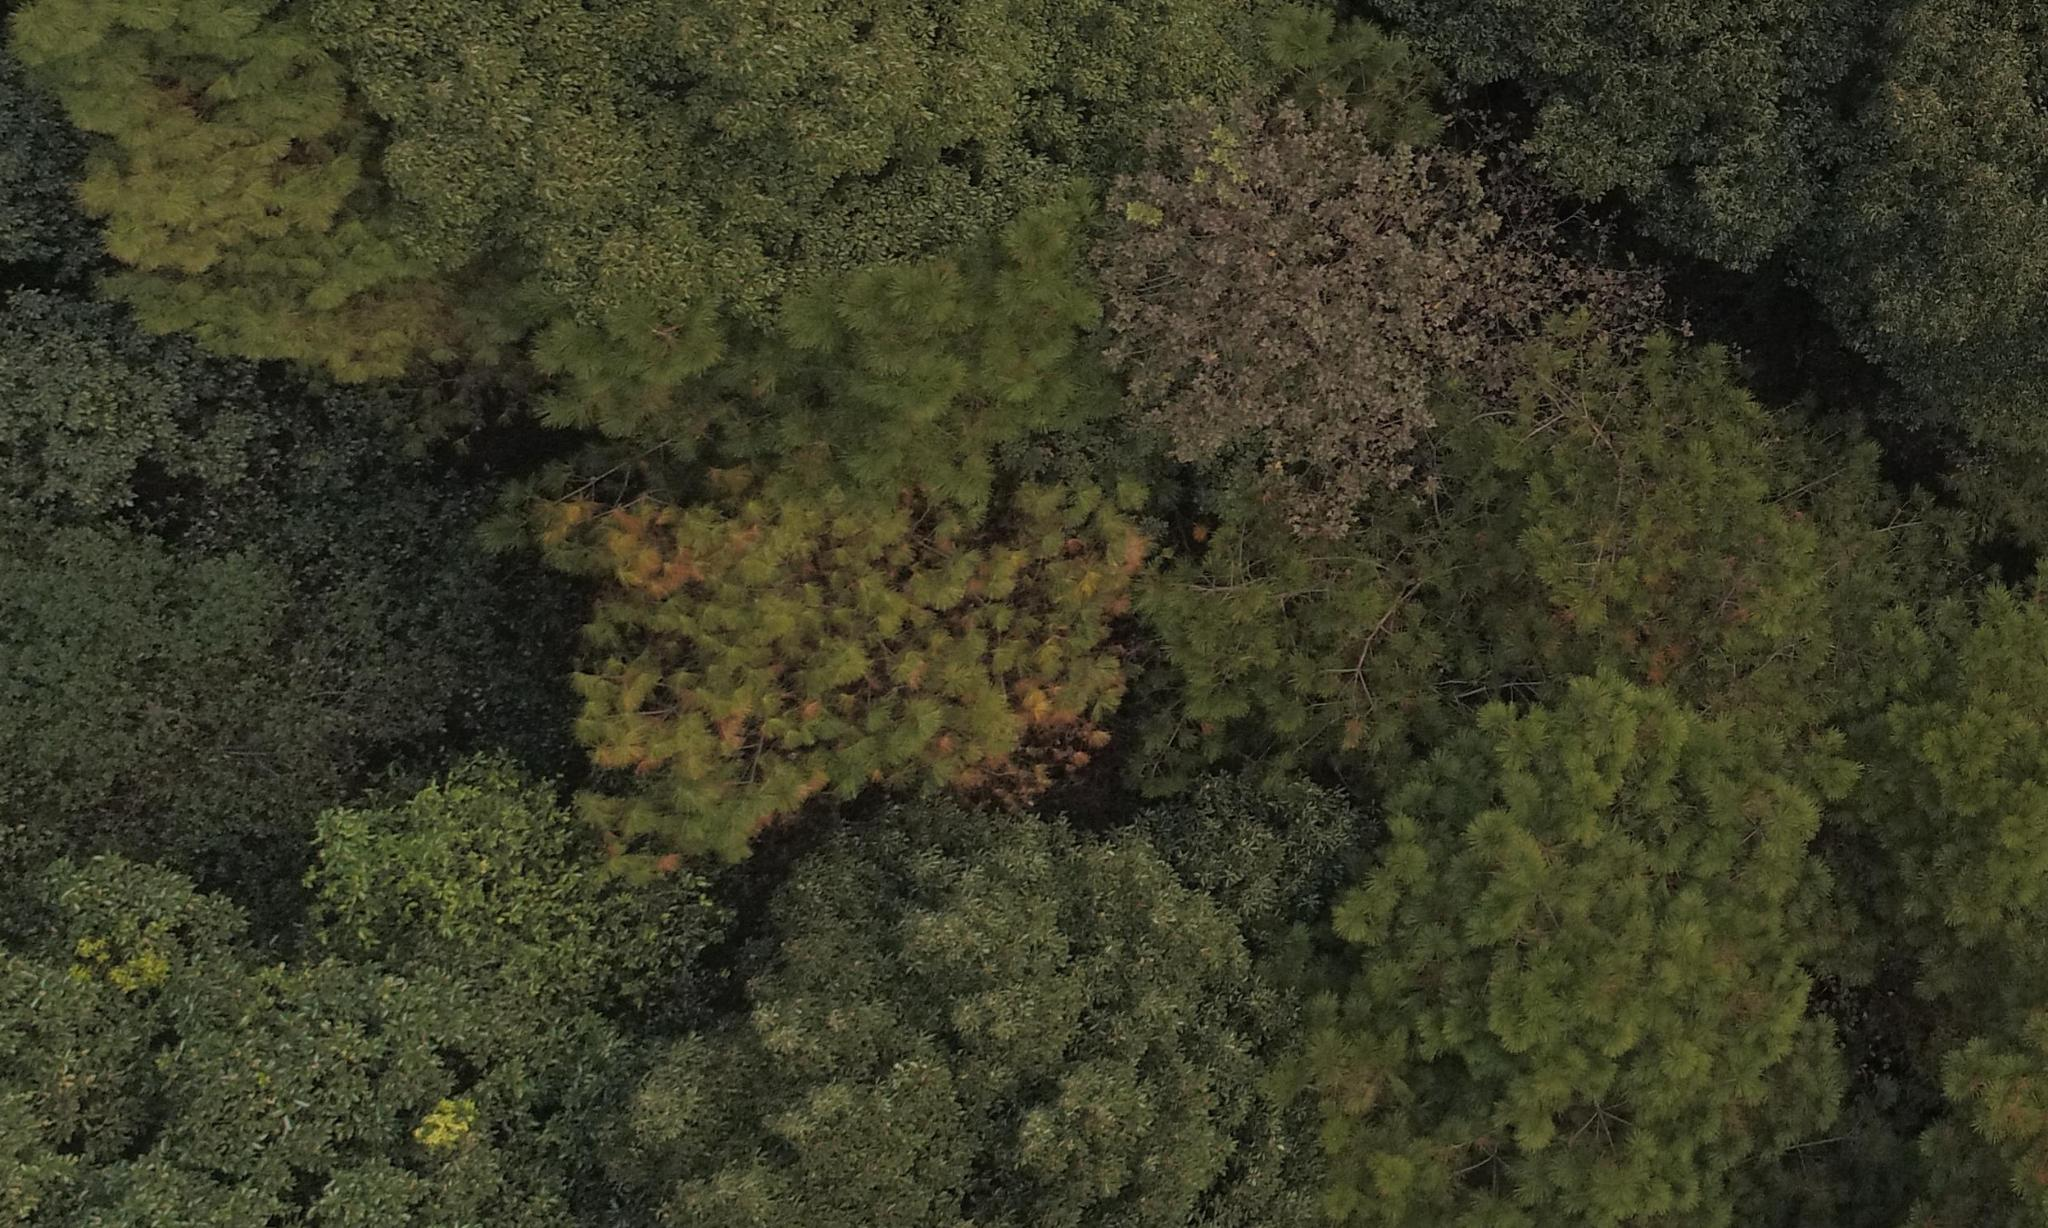light: (551, 443, 1155, 863), (1497, 346, 1817, 727)
